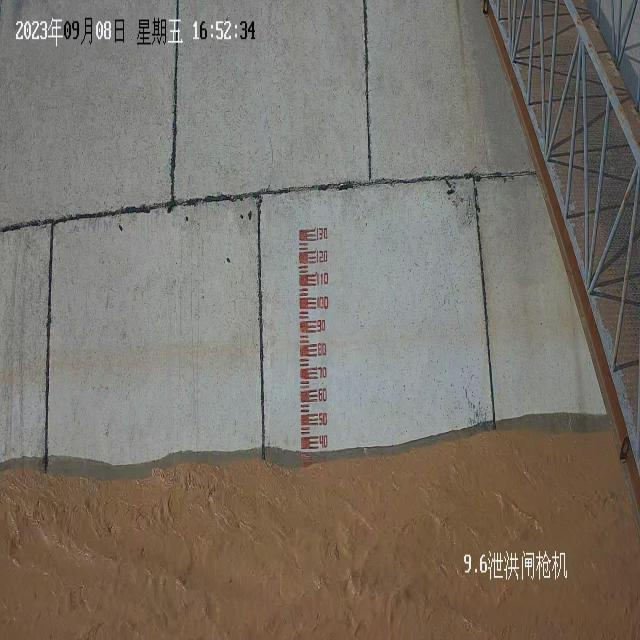ruler: (296, 221, 332, 456)
value: (315, 246, 329, 266), (315, 270, 330, 288), (316, 294, 330, 313), (316, 339, 328, 359), (317, 432, 329, 452), (315, 225, 329, 242), (316, 364, 329, 381), (317, 385, 328, 404), (316, 316, 327, 334), (317, 410, 328, 428)
